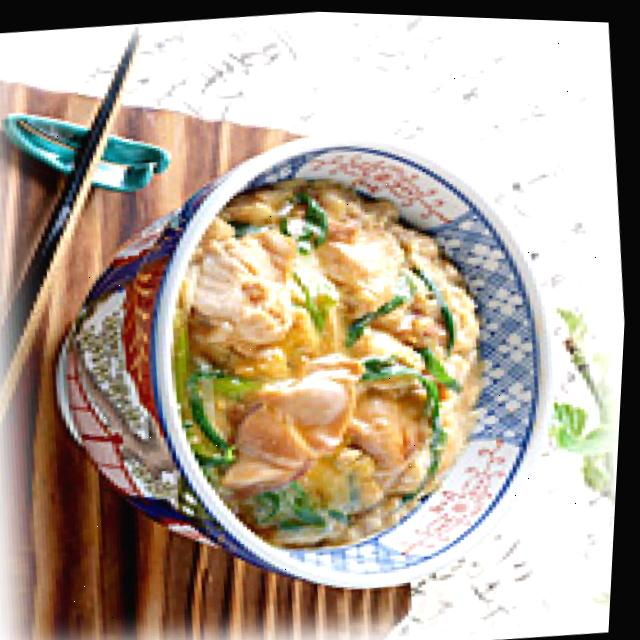米饭主食: (21, 84, 600, 624)
